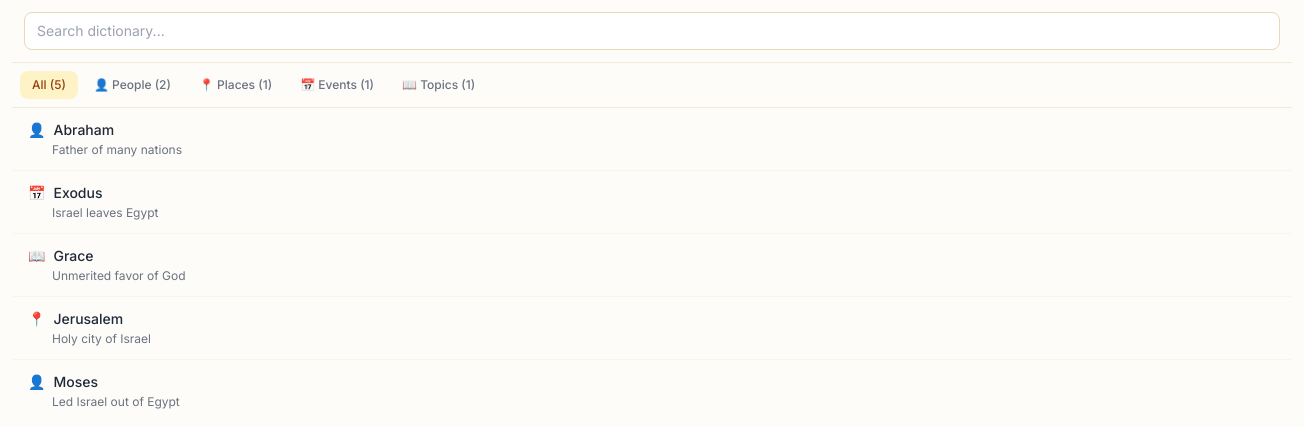
DictionaryBrowser › clicking an entry shows detail view
Step 1. Click the text "Abraham" → (84, 130), box [54,120,114,140]
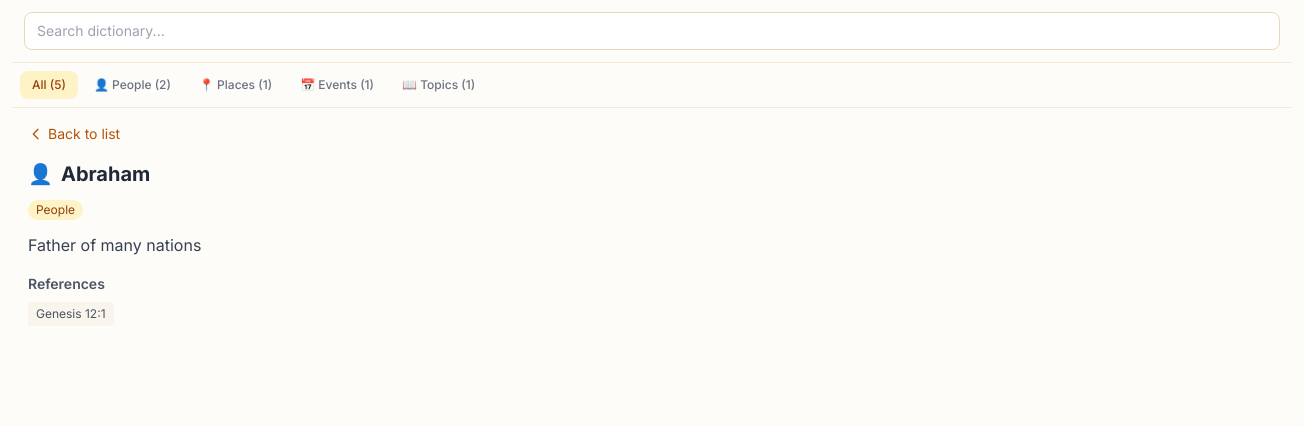
Expected: the text "Father of many nations" is shown, [28,235,201,255]
Result: the text "Genesis 12:1" is shown at [28,302,114,326]
